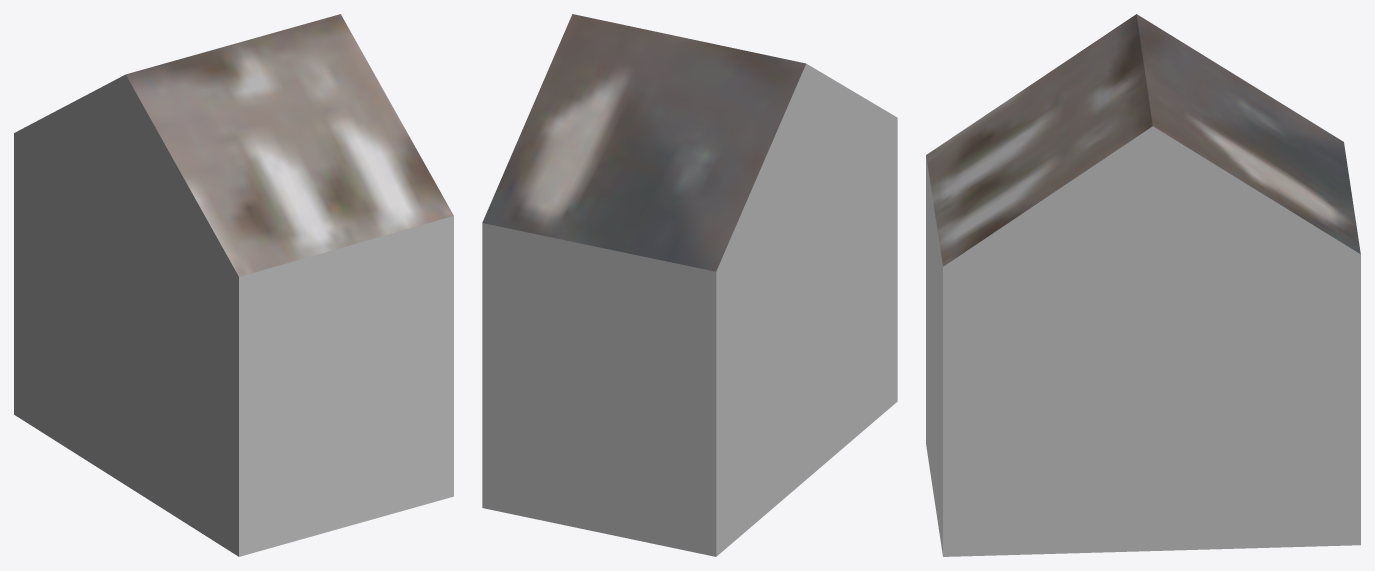
The model's file is DEBW_0010007Txa8.gltf.
3 renders of one model, left to right at view 1: azimuth 30°, elevation 25°; view 2: azimuth 150°, elevation 25°; view 3: azimuth 270°, elevation 25°, orthographic. The views are drawn at different scales.
Parts seen in each view (by area): view 1: Z_UP; view 2: Z_UP; view 3: Z_UP.
Part boxes in pixels (x1=…): Z_UP: x1=14, y1=14, x2=453, y2=556; Z_UP: x1=482, y1=14, x2=897, y2=556; Z_UP: x1=926, y1=14, x2=1360, y2=556.
Size of the model in its own units: 6.76 by 10.8 by 10.01.
Materials: 2 (1 with a texture image).
